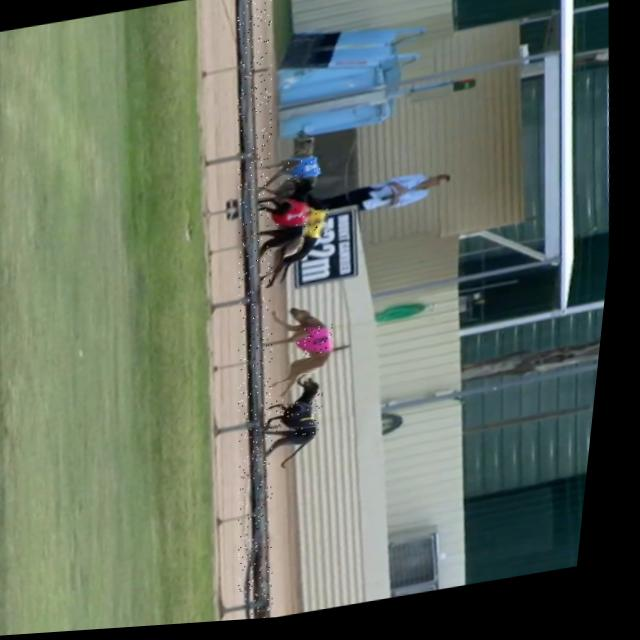dog_eight: (301, 328, 343, 363)
dog_five: (304, 213, 335, 243)
dog_four: (288, 161, 325, 184)
dog_one: (277, 206, 315, 234)
dog_seven: (281, 397, 335, 446)
rail: (236, 0, 285, 623)
